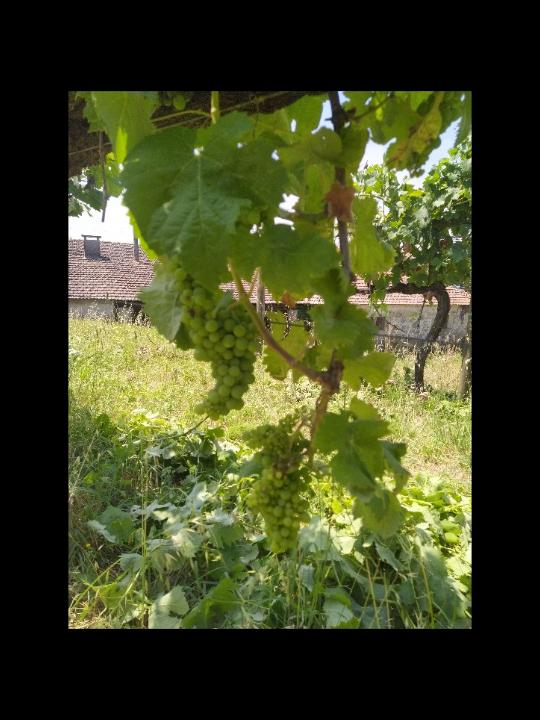grape: (178, 282, 261, 421), (243, 460, 316, 556)
